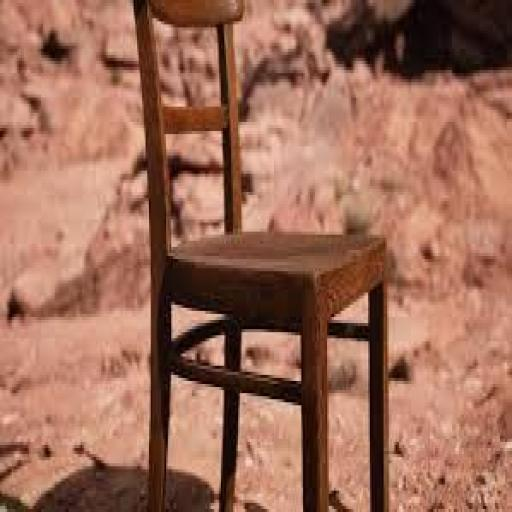chair: (128, 0, 394, 512)
